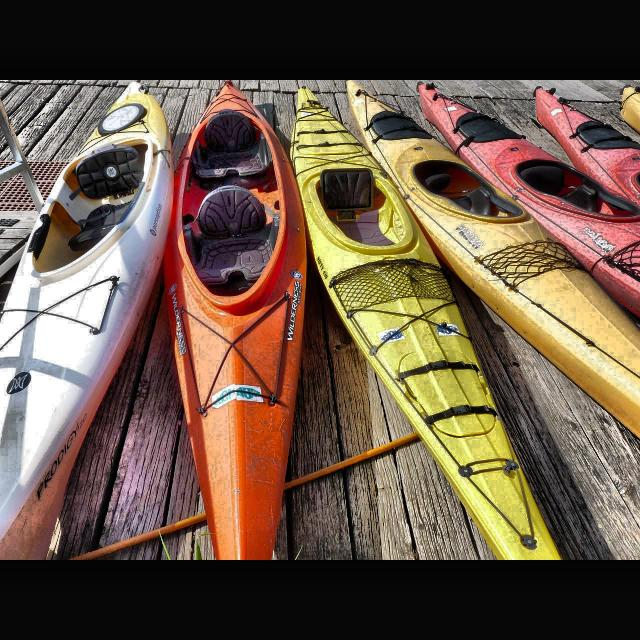kayak: (289, 85, 563, 560), (344, 80, 640, 442), (1, 80, 176, 560), (162, 80, 310, 560), (416, 80, 640, 326), (534, 84, 640, 214), (619, 80, 640, 137)
